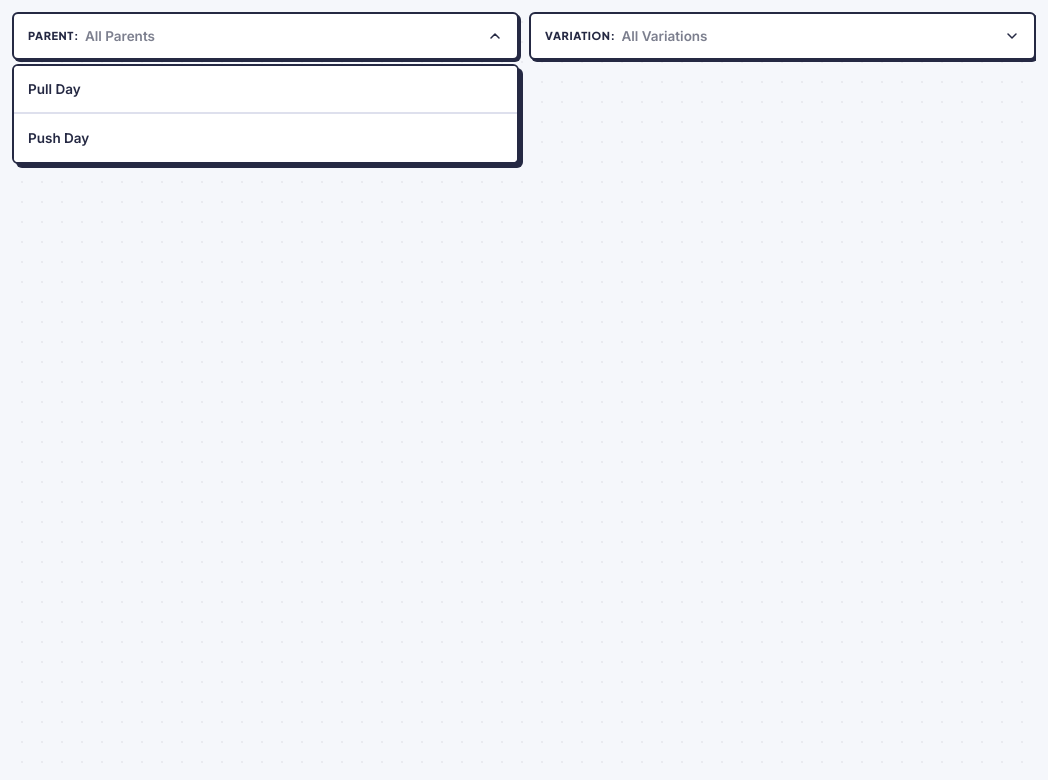
Test: FilterSelect Component & Option Normalization › allows changing parent filter, updating available variations without crashing
Earlier steps of the test are not shown.
What coordinates should you click on to do the following:
click the option "Pull Day"
I would click on:
 (54, 89)
Its box is [14,66,517,114].
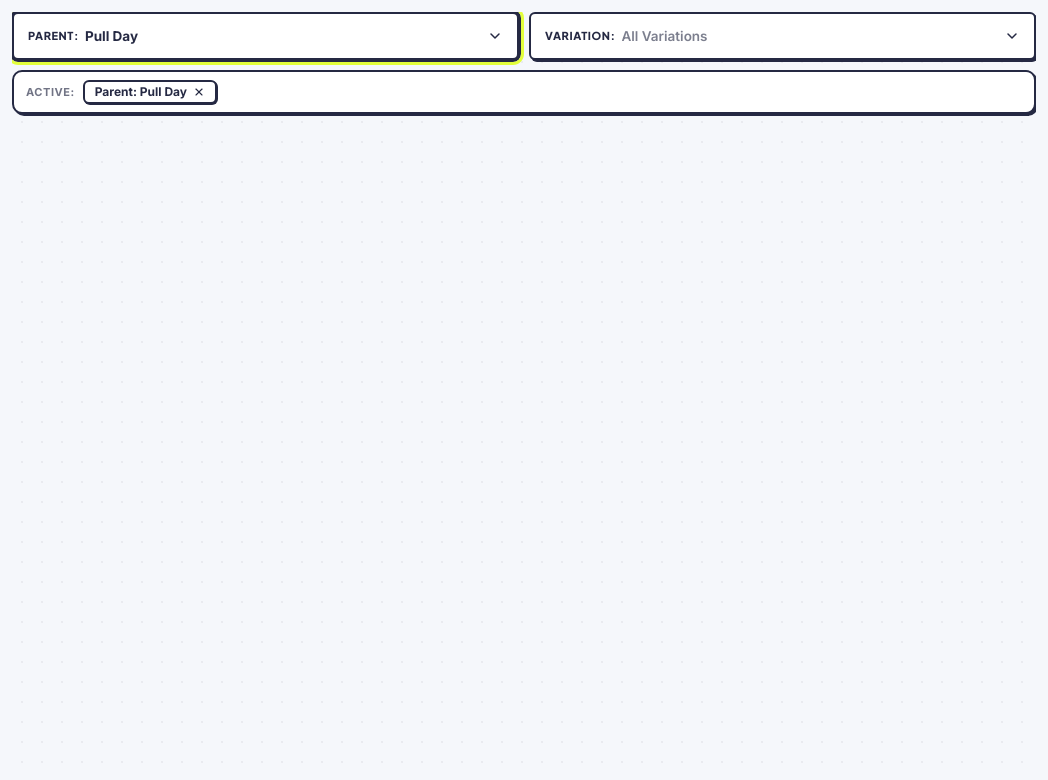
Check: the text "Pull Day" is shown, box [85,26,138,46]
Check: the text "Parent: Pull Day" is shown, box [95,86,187,98]
Note: Open Variation dropdown - should show Pull Day variations
What coordinates should you click on to do the following:
click the button "Variation: All Variations"
I would click on:
 (578, 35)
Its box is [529,12,1036,60].
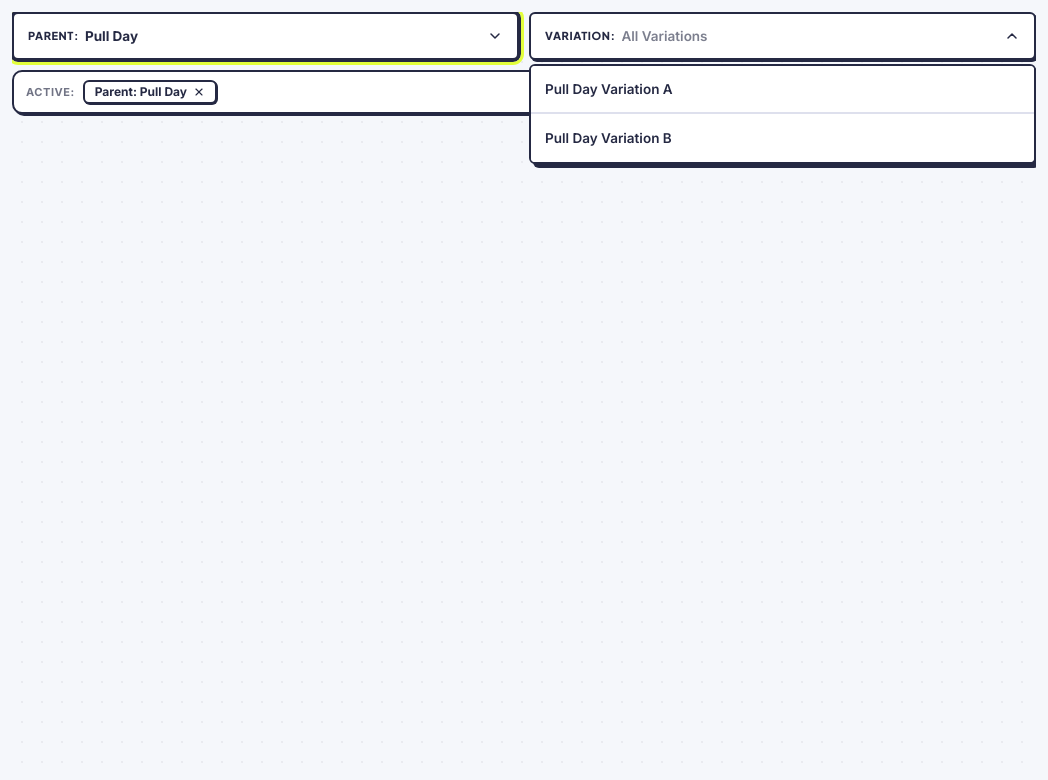
Check: the option "Pull Day Variation A" is shown
Check: the option "Pull Day Variation B" is shown, box [531,114,1034,162]
Note: Select Pull Day Variation A
What coordinates should you click on to do the following:
click the option "Pull Day Variation A"
I would click on:
 (609, 89)
Its box is [531,66,1034,114].
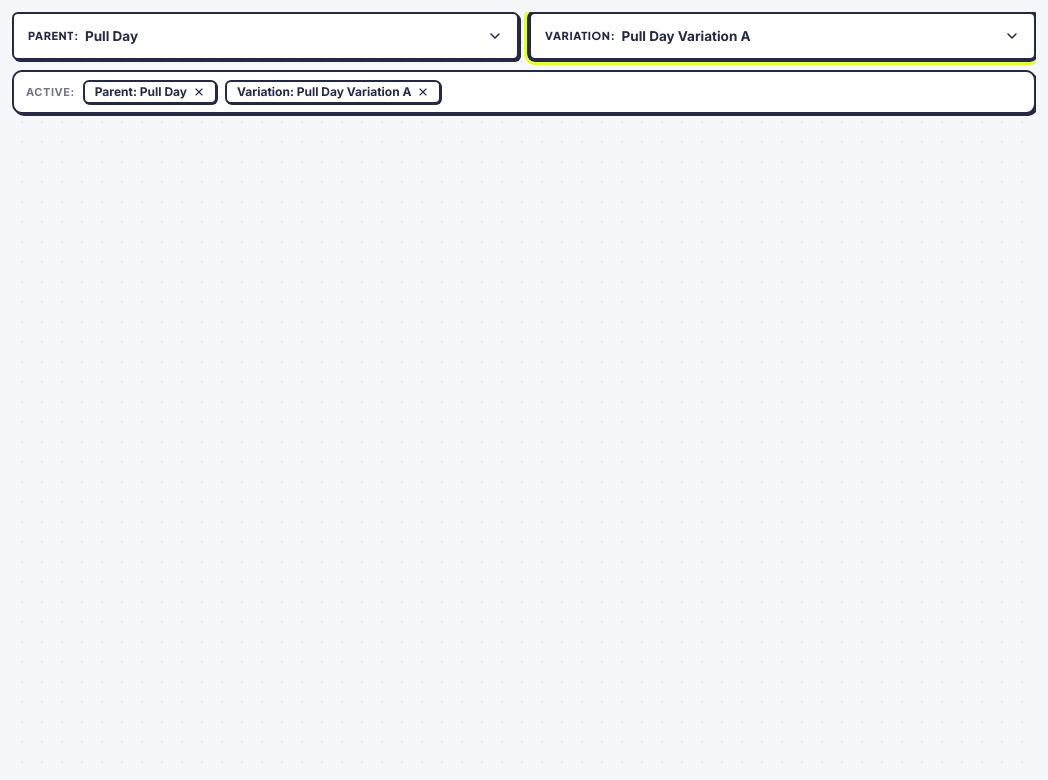
Check: the text "Variation: Pull Day Variation A" is shown, box [237,86,411,98]
Note: Change Parent to Push Day - variation is automatically cleared
What coordinates should you click on to do the following:
click the button "Parent: Pull Day"
I would click on:
 (51, 35)
Its box is [12,12,519,60].
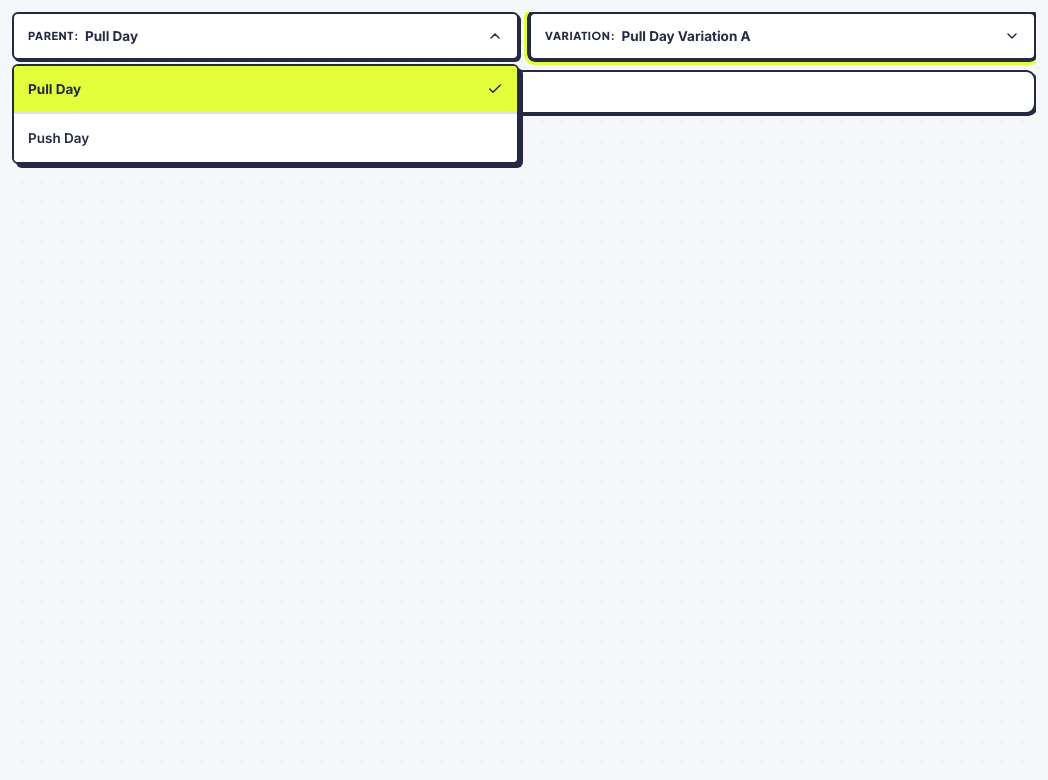
What coordinates should you click on to do the following:
click the option "Push Day"
I would click on:
 (59, 138)
Its box is [14,114,517,162].
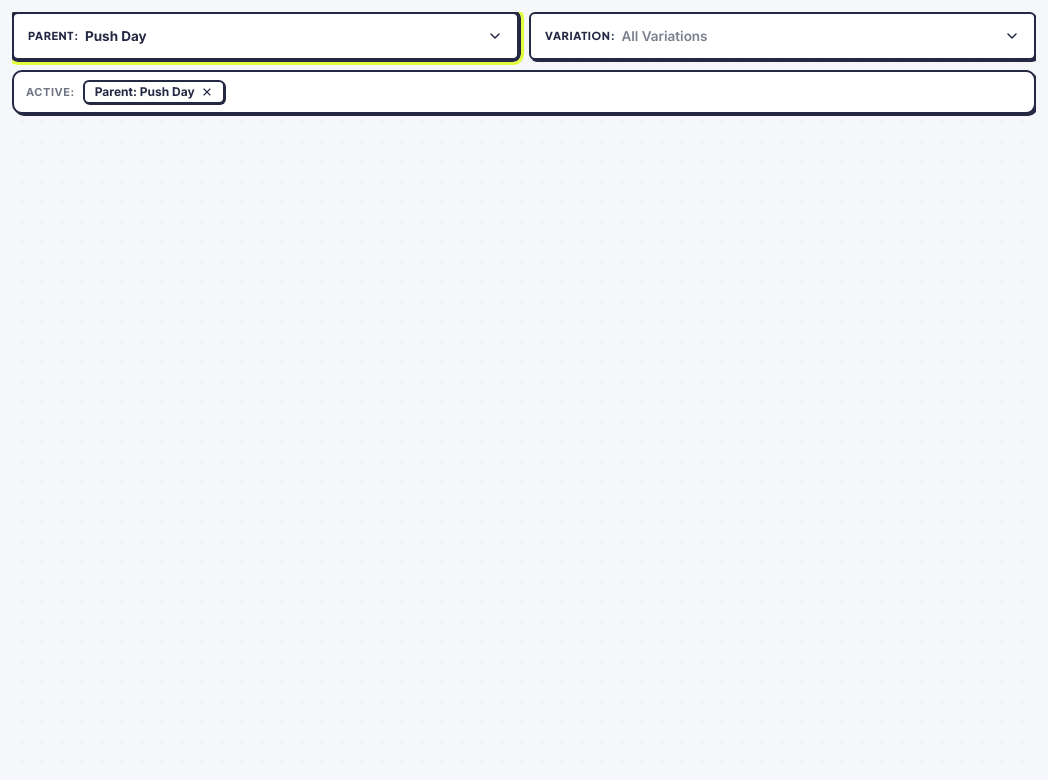
Check: the text "Push Day" is shown, box [85,26,147,46]
Check: the button "Variation: Pull Day Variation A" is gone
Note: Check Push Day variations
What coordinates should you click on to do the following:
click the button "Variation: All Variations"
I would click on:
 (578, 35)
Its box is [529,12,1036,60].
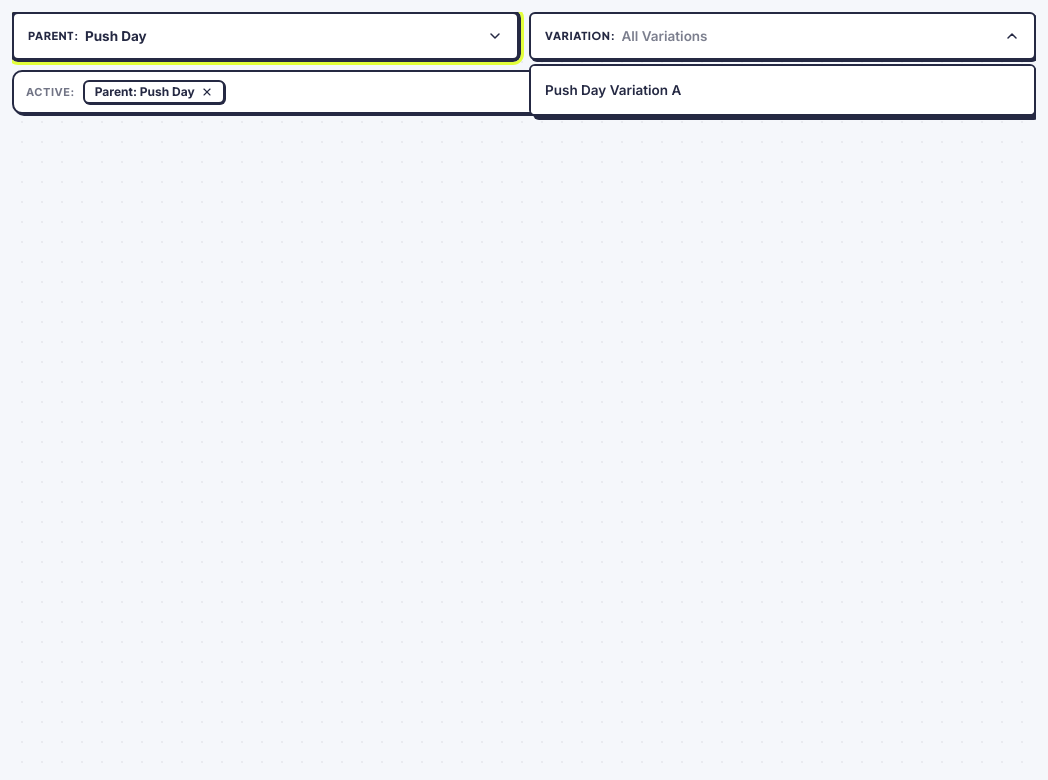
Check: the button "Pull Day Variation A" is not shown
Check: the option "Push Day Variation A" is shown, box [531,66,1034,114]
